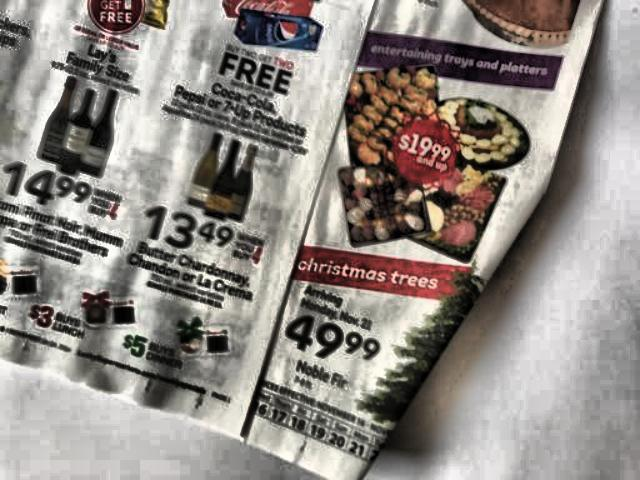Paper: (0, 0, 619, 480)
